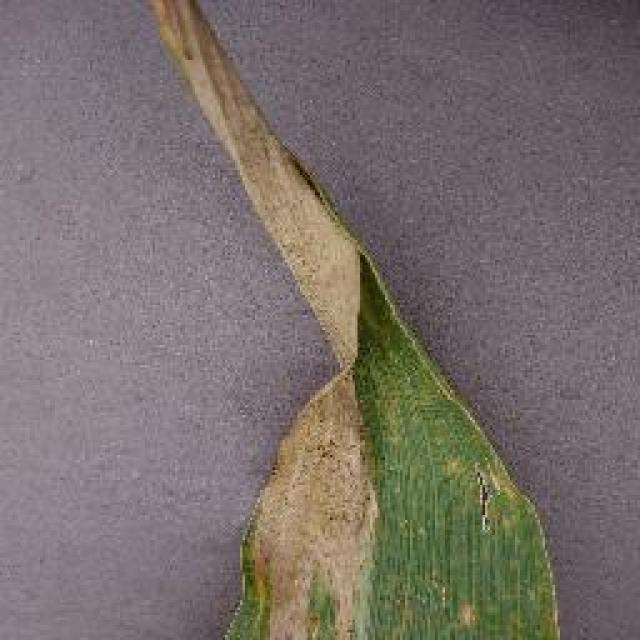Corn___Northern_Leaf_Blight: (115, 2, 583, 640)
